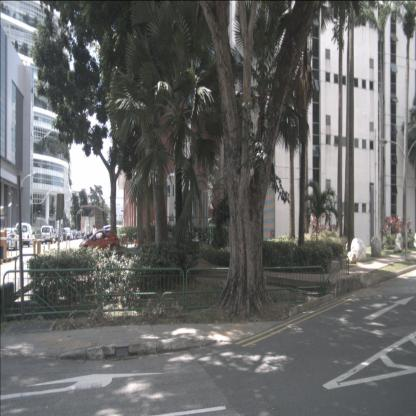human-pedestrian-adult: (92, 224, 97, 249)
vehicle-car: (79, 230, 120, 254), (1, 227, 22, 250), (15, 223, 35, 247), (40, 225, 56, 245), (52, 228, 63, 243), (57, 228, 68, 241), (64, 227, 71, 241), (72, 230, 80, 240), (67, 231, 74, 240), (69, 231, 76, 240), (76, 231, 82, 239)
vehicle-truck: (81, 205, 104, 241)
